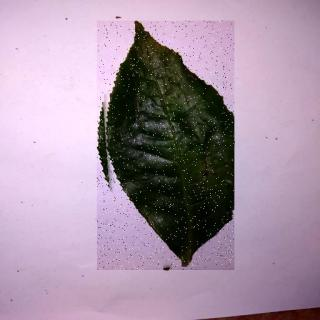Bird Eye Spot: (98, 22, 235, 271)
